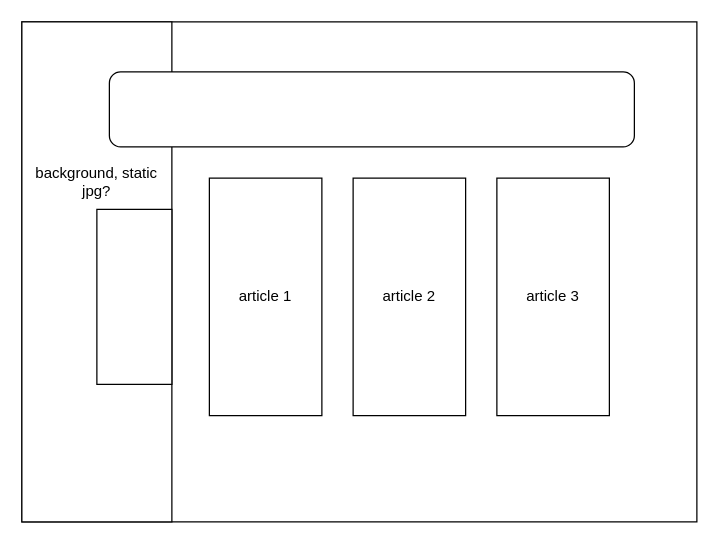
Image size: 719x544. Some labels were removed from this diagram. The shapes that lost their labels are listed below. From the top down, each one's centre as x and y in pixels, then its label:
At (x=371, y=109): "title".
At (x=134, y=296): "Sidebar/navbar".
